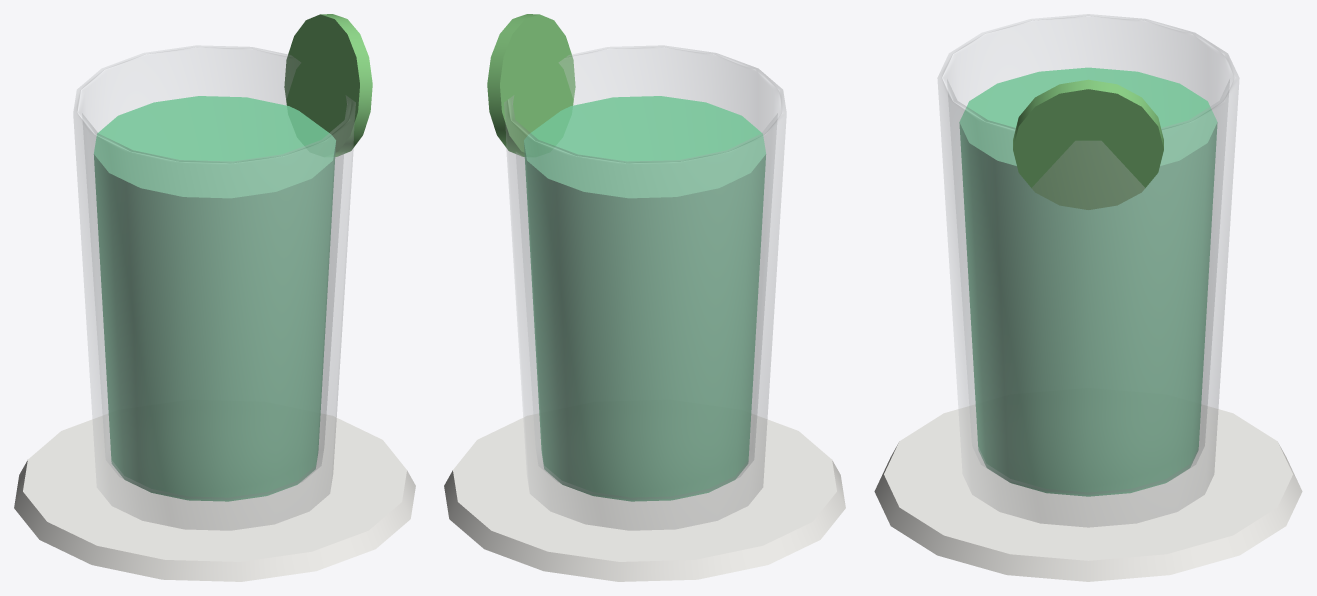
The model's file is kaffir-lime-mocktail-ultralight.glb.
3 renders of one model, left to right at view 1: azimuth 30°, elevation 25°; view 2: azimuth 150°, elevation 25°; view 3: azimuth 270°, elevation 25°, orthographic. The views are drawn at different scales.
Parts seen in each view (by area): view 1: kaffir-lime-mocktail_Mat_Glass_Container_Node, kaffir-lime-mocktail_Mat_Beverage_Liquid_Node, kaffir-lime-mocktail_Mat_Ceramic_Plate_Node, kaffir-lime-mocktail_Mat_Fresh_Vegetables_Node; view 2: kaffir-lime-mocktail_Mat_Glass_Container_Node, kaffir-lime-mocktail_Mat_Beverage_Liquid_Node, kaffir-lime-mocktail_Mat_Ceramic_Plate_Node, kaffir-lime-mocktail_Mat_Fresh_Vegetables_Node; view 3: kaffir-lime-mocktail_Mat_Glass_Container_Node, kaffir-lime-mocktail_Mat_Beverage_Liquid_Node, kaffir-lime-mocktail_Mat_Ceramic_Plate_Node, kaffir-lime-mocktail_Mat_Fresh_Vegetables_Node.
Part boxes in pixels (<box>): kaffir-lime-mocktail_Mat_Glass_Container_Node: <box>73,45,355,530</box>; kaffir-lime-mocktail_Mat_Beverage_Liquid_Node: <box>94,96,335,501</box>; kaffir-lime-mocktail_Mat_Ceramic_Plate_Node: <box>14,413,415,581</box>; kaffir-lime-mocktail_Mat_Fresh_Vegetables_Node: <box>284,14,372,156</box>; kaffir-lime-mocktail_Mat_Glass_Container_Node: <box>504,45,786,530</box>; kaffir-lime-mocktail_Mat_Beverage_Liquid_Node: <box>524,96,765,501</box>; kaffir-lime-mocktail_Mat_Ceramic_Plate_Node: <box>444,413,845,581</box>; kaffir-lime-mocktail_Mat_Fresh_Vegetables_Node: <box>487,14,575,156</box>; kaffir-lime-mocktail_Mat_Glass_Container_Node: <box>937,14,1239,527</box>; kaffir-lime-mocktail_Mat_Beverage_Liquid_Node: <box>959,67,1217,496</box>; kaffir-lime-mocktail_Mat_Ceramic_Plate_Node: <box>874,404,1302,581</box>; kaffir-lime-mocktail_Mat_Fresh_Vegetables_Node: <box>1013,79,1163,209</box>.
Size of the model in its own units: 0.136 by 0.166 by 0.136.
